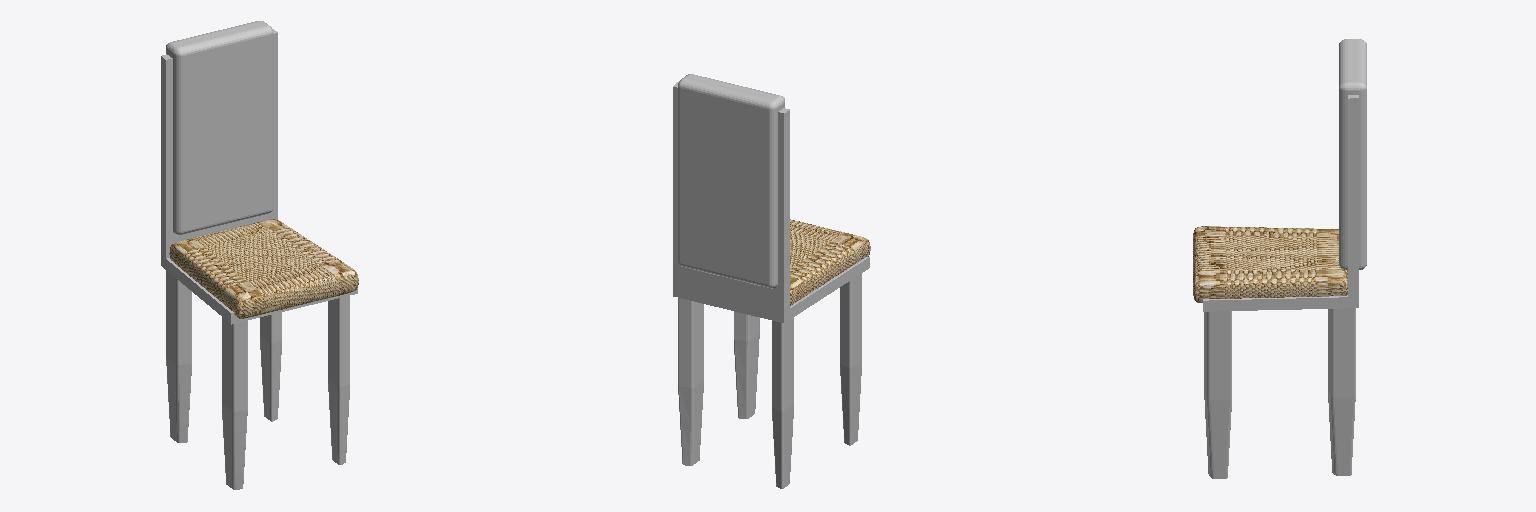
3 renders of one model, left to right at view 1: azimuth 30°, elevation 25°; view 2: azimuth 150°, elevation 25°; view 3: azimuth 270°, elevation 25°, orthographic.
Visible parts, largest first — view 1: respaldar, silla, Asiento; view 2: silla, respaldar, Asiento; view 3: silla, Asiento, respaldar.
Boxes of the visible parts, x1=… form: respaldar: x1=166, y1=21, x2=272, y2=234; silla: x1=161, y1=29, x2=357, y2=489; Asiento: x1=169, y1=219, x2=358, y2=318; silla: x1=673, y1=82, x2=869, y2=488; respaldar: x1=678, y1=74, x2=784, y2=288; Asiento: x1=790, y1=219, x2=870, y2=305; silla: x1=1203, y1=95, x2=1358, y2=478; Asiento: x1=1193, y1=226, x2=1347, y2=302; respaldar: x1=1339, y1=39, x2=1366, y2=269.
Bounding box in the file's own units: 3.4 × 10.04 × 4.06.
3 materials, 1 textured.